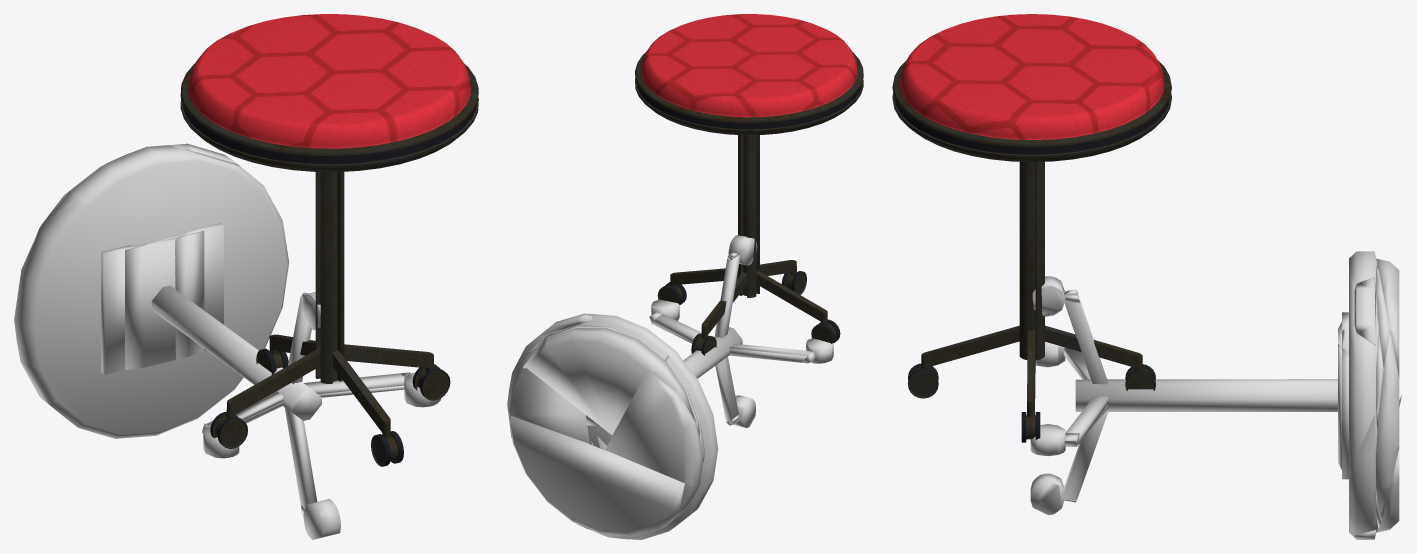
File: SM_Stool_Desk.fbx
3 renders of one model, left to right at view 1: azimuth 30°, elevation 25°; view 2: azimuth 150°, elevation 25°; view 3: azimuth 270°, elevation 25°, orthographic. The views are drawn at different scales.
Visible parts, largest first — view 1: SM_Stool_Desk_ConvexHulls, SM_Stool_Desk; view 2: SM_Stool_Desk_ConvexHulls, SM_Stool_Desk; view 3: SM_Stool_Desk, SM_Stool_Desk_ConvexHulls.
Boxes of the visible parts, x1,y1,x2,y2 form: SM_Stool_Desk_ConvexHulls: (14, 143, 440, 539); SM_Stool_Desk: (180, 14, 478, 466); SM_Stool_Desk_ConvexHulls: (507, 235, 833, 539); SM_Stool_Desk: (635, 14, 863, 355); SM_Stool_Desk: (892, 14, 1171, 442); SM_Stool_Desk_ConvexHulls: (1030, 251, 1402, 539).
Size of the model in its own units: 0.4679 by 0.8312 by 0.8308.
